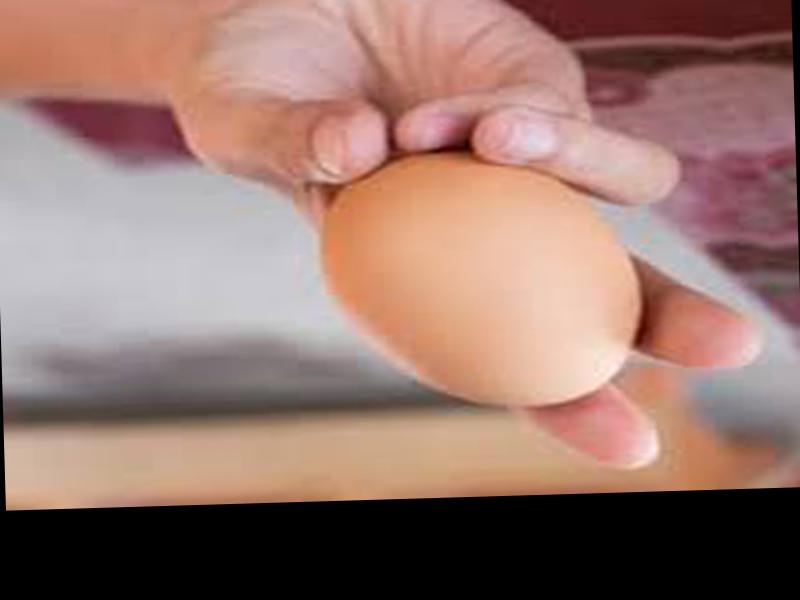Eggs: (322, 148, 647, 410)
